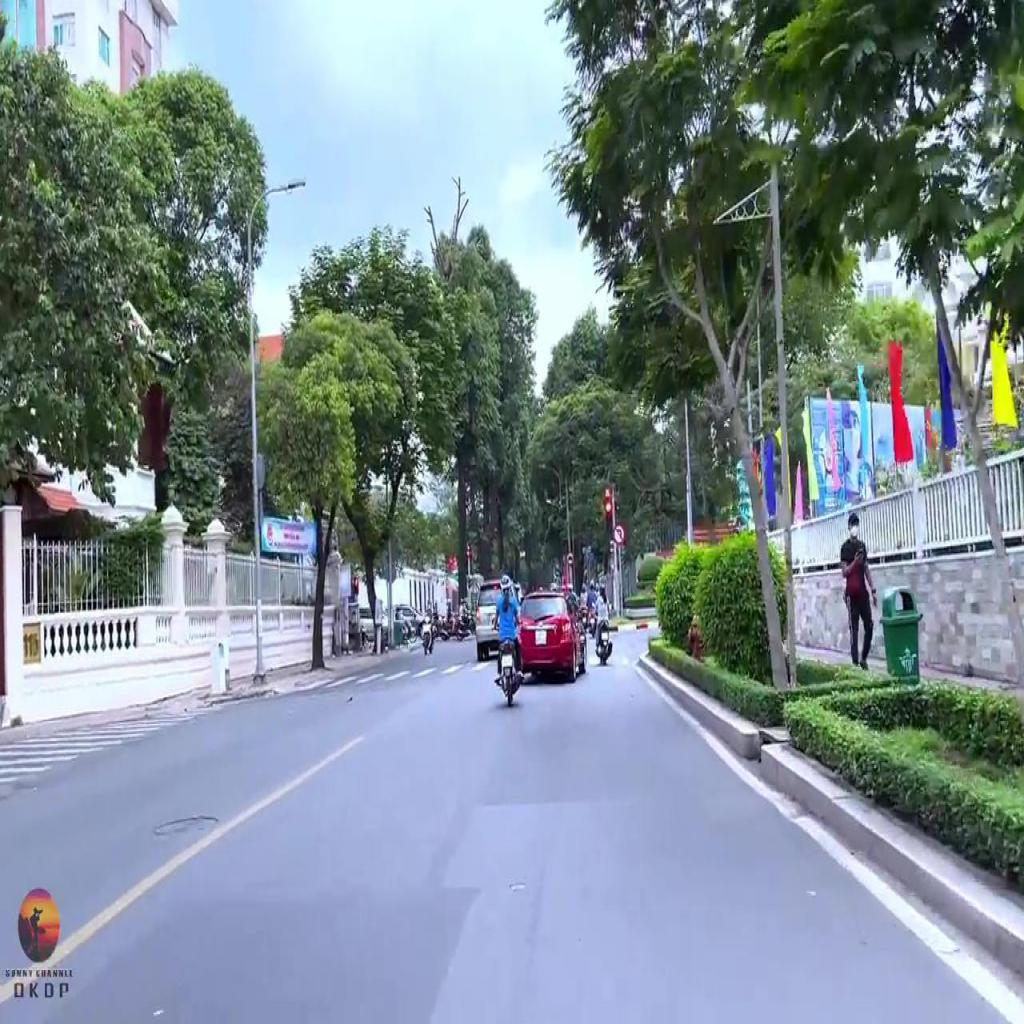cam_o_to_tai: (566, 552, 574, 564)
cam_re_trai: (612, 523, 626, 545)
